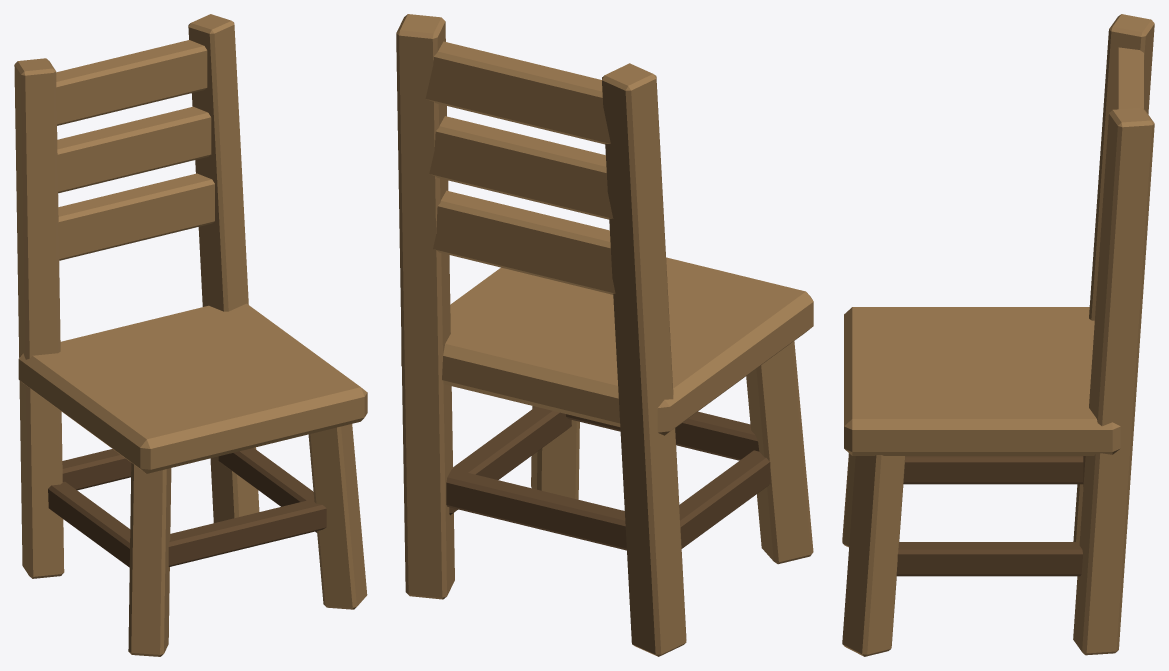
The model's file is Library_ReadingChair.fbx.
3 renders of one model, left to right at view 1: azimuth 30°, elevation 25°; view 2: azimuth 150°, elevation 25°; view 3: azimuth 270°, elevation 25°, orthographic. The views are drawn at different scales.
Visible parts, largest first — view 1: Seat, Left_back_post, Right_back_post, Back_slat_01, Back_slat_02, Back_slat_03, Right_front_leg.001, Left_front_leg.001, Front_brace, Left_side_brace, Right_side_brace, Rear_brace; view 2: Seat, Left_back_post, Right_back_post, Back_slat_01, Back_slat_02, Back_slat_03, Left_front_leg.001, Rear_brace, Left_side_brace, Right_side_brace, Front_brace, Right_front_leg.001; view 3: Seat, Right_back_post, Right_front_leg.001, Right_side_brace, Left_side_brace, Left_back_post, Back_slat_03, Left_front_leg.001.
Part boxes in pixels (box(x1,y1,x2,y2)): Seat: box(18, 303, 367, 473); Left_back_post: box(14, 58, 64, 578); Right_back_post: box(188, 14, 259, 522); Back_slat_01: box(58, 173, 214, 260); Back_slat_02: box(57, 106, 211, 193); Back_slat_03: box(56, 40, 207, 125); Right_front_leg.001: box(308, 424, 367, 609); Left_front_leg.001: box(128, 462, 171, 656); Front_brace: box(168, 499, 326, 566); Left_side_brace: box(48, 481, 130, 567); Right_side_brace: box(218, 448, 316, 532); Rear_brace: box(62, 449, 131, 490); Seat: box(401, 257, 813, 435); Left_back_post: box(602, 63, 686, 656); Right_back_post: box(396, 14, 454, 599); Back_slat_01: box(433, 190, 615, 294); Back_slat_02: box(429, 116, 613, 219); Back_slat_03: box(425, 41, 610, 144); Left_front_leg.001: box(746, 341, 813, 564); Rear_brace: box(446, 469, 626, 550); Left_side_brace: box(679, 450, 770, 548); Right_side_brace: box(449, 407, 571, 515); Front_brace: box(566, 411, 759, 460); Right_front_leg.001: box(531, 406, 579, 499); Seat: box(844, 307, 1120, 455); Right_back_post: box(1073, 108, 1154, 655); Right_front_leg.001: box(842, 455, 905, 656); Right_side_brace: box(896, 542, 1082, 576); Left_side_brace: box(903, 456, 1083, 484); Left_back_post: box(1073, 14, 1154, 541); Back_slat_03: box(1114, 47, 1143, 109); Left_front_leg.001: box(842, 453, 855, 547).
Size of the model in its own units: 0.646 by 1.29 by 0.6891.
